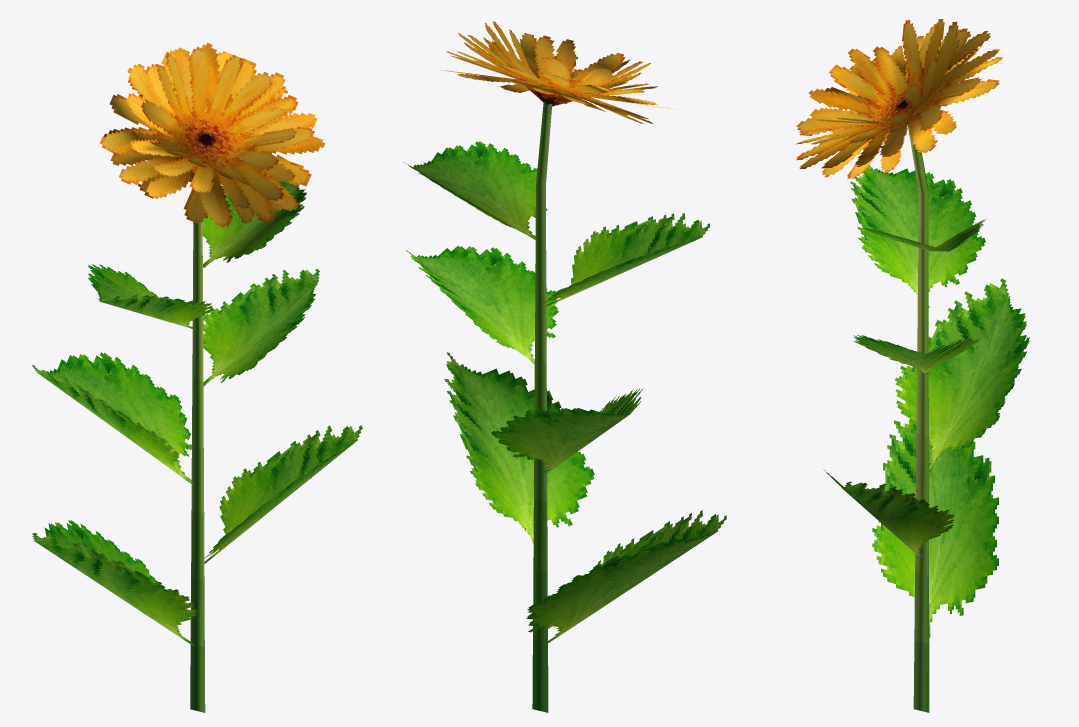
File: Flower4_1.obj
3 renders of one model, left to right at view 1: azimuth 30°, elevation 25°; view 2: azimuth 150°, elevation 25°; view 3: azimuth 270°, elevation 25°, orthographic. The views are drawn at different scales.
Bounding box in the file's own units: 8.93 × 18.4 × 7.39.
3 materials, 3 textured.
